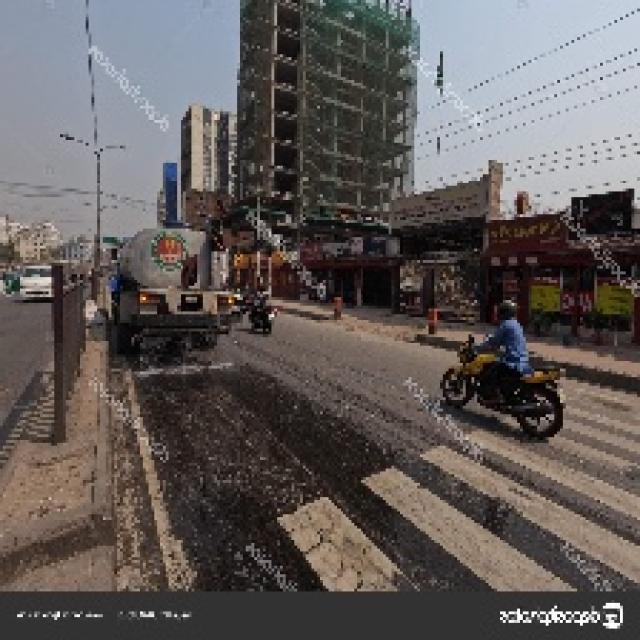bike: (433, 336, 571, 435), (244, 293, 280, 341)
car: (14, 264, 57, 308)
